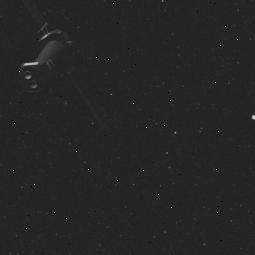xmm_newton: (0, 0, 119, 126)
